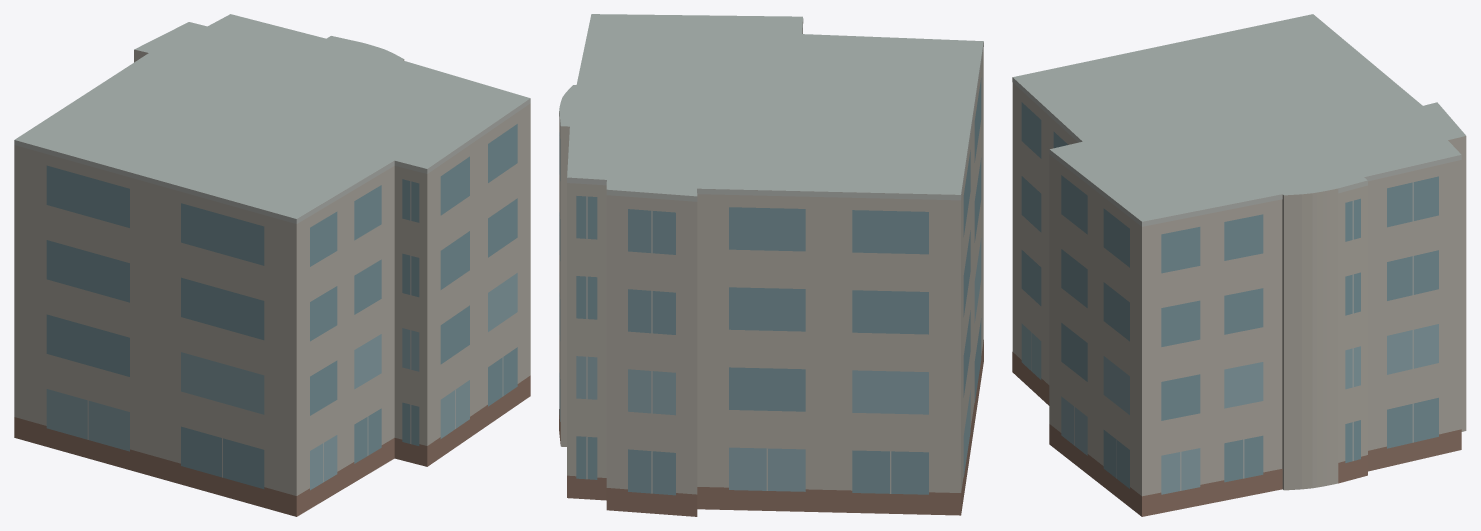
Rendered from survey-upis-32689729.glb.
3 renders of one model, left to right at view 1: azimuth 30°, elevation 25°; view 2: azimuth 150°, elevation 25°; view 3: azimuth 270°, elevation 25°, orthographic. The views are drawn at different scales.
Parts seen in each view (by area): view 1: survey-upis-32689729.tmp; view 2: survey-upis-32689729.tmp; view 3: survey-upis-32689729.tmp.
Part boxes in pixels (x1,y1,x2,y2): survey-upis-32689729.tmp: [14, 14, 530, 516]; survey-upis-32689729.tmp: [559, 14, 983, 516]; survey-upis-32689729.tmp: [1012, 14, 1466, 516].
Bounding box in the file's own units: 21.61 × 14.3 × 19.94.
